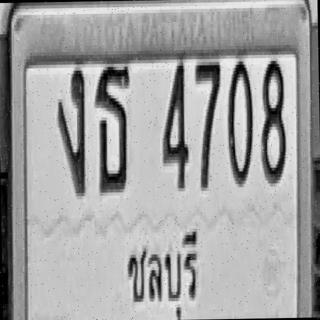A07: (56, 64, 87, 196)
A24: (94, 60, 132, 192)
N00: (227, 56, 253, 185)
N04: (161, 56, 189, 188)
N07: (194, 57, 222, 189)
N08: (259, 57, 286, 183)
P13: (123, 215, 200, 320)
